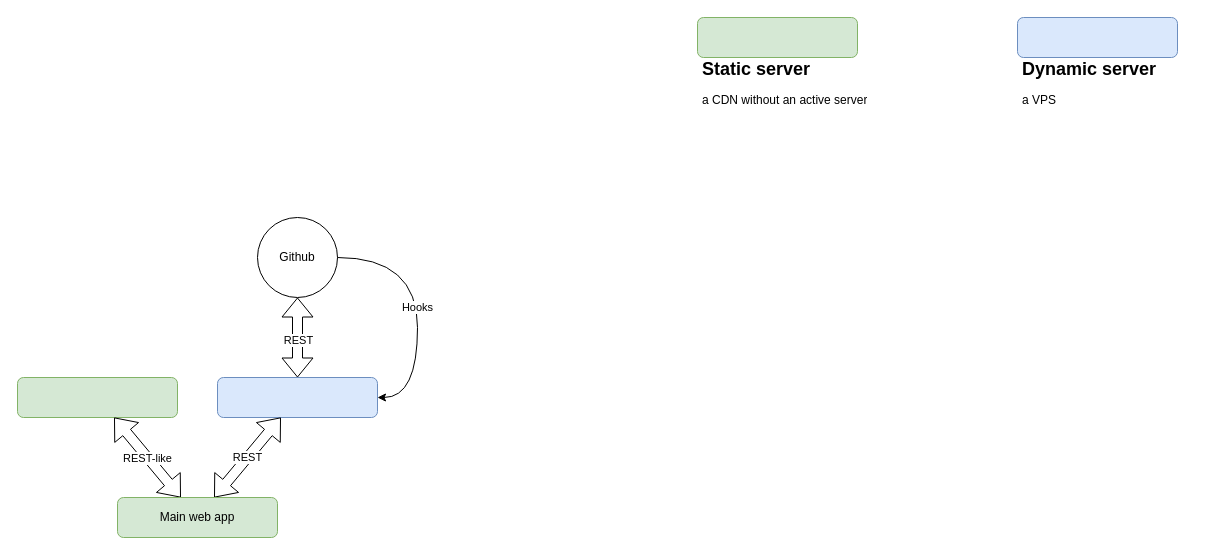
Some shapes in this 1225 by 555 pixel diagram are drawn without their labels. Each missing label, with the box of its shape:
API server: (216, 376, 378, 418)
Data server: (16, 376, 178, 418)
